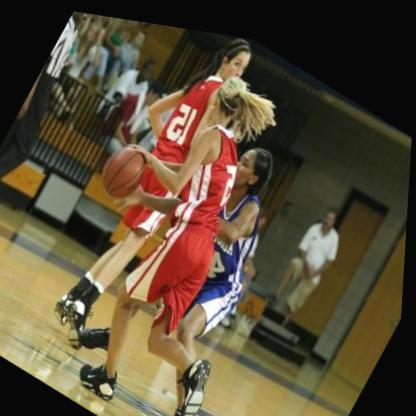basketball: (96, 130, 159, 205)
